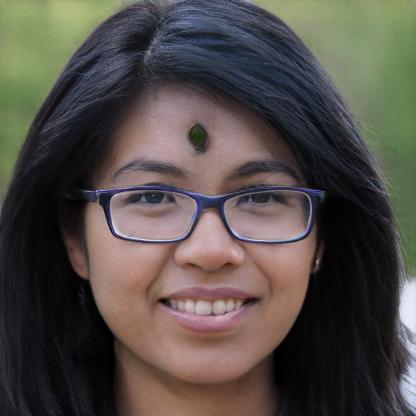glasses: (93, 182, 324, 246)
